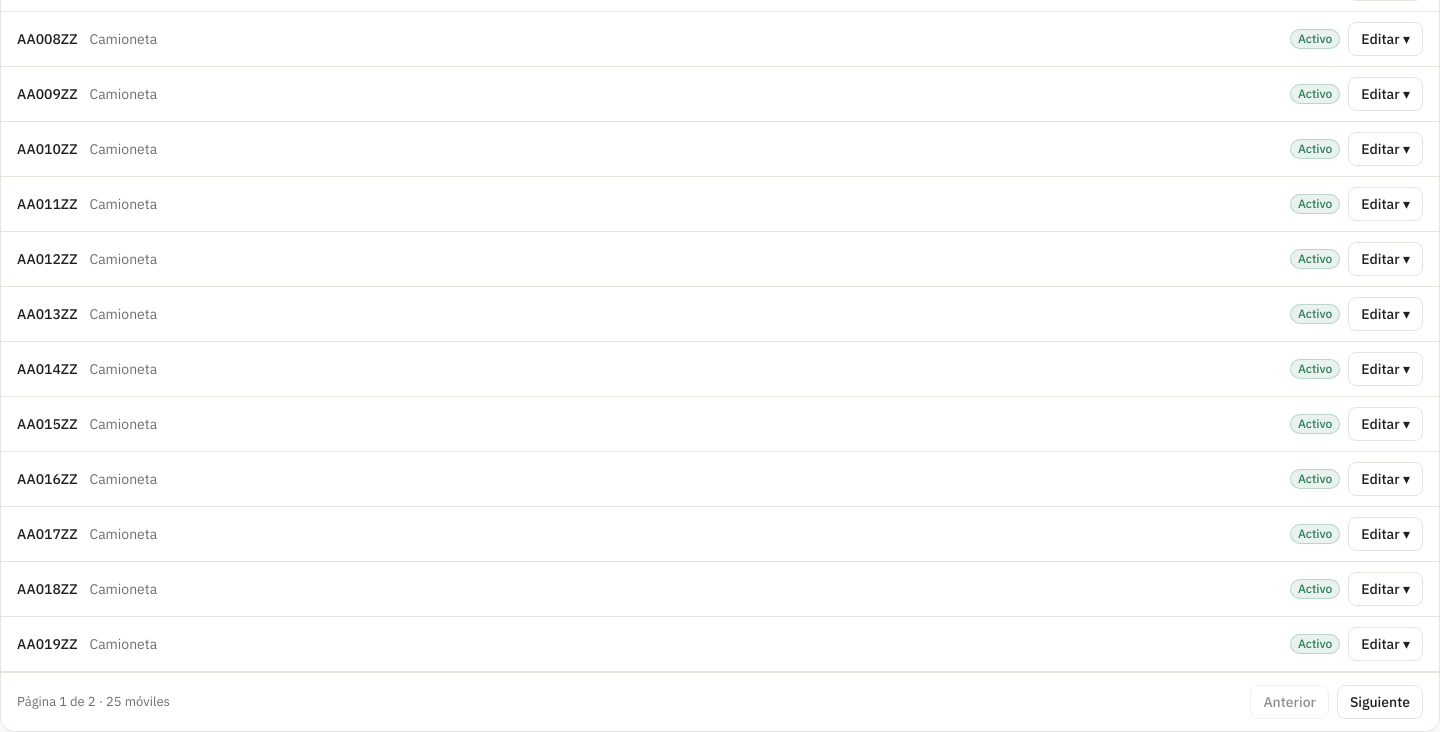
MovilesAdminPage › paginación de a 20 › "Siguiente" trae el resto
This screenshot has width=1440, height=732.
(page scrolled)
Click the button "Siguiente" at (1380,702), box [1337,685,1423,719]
(page scrolled)
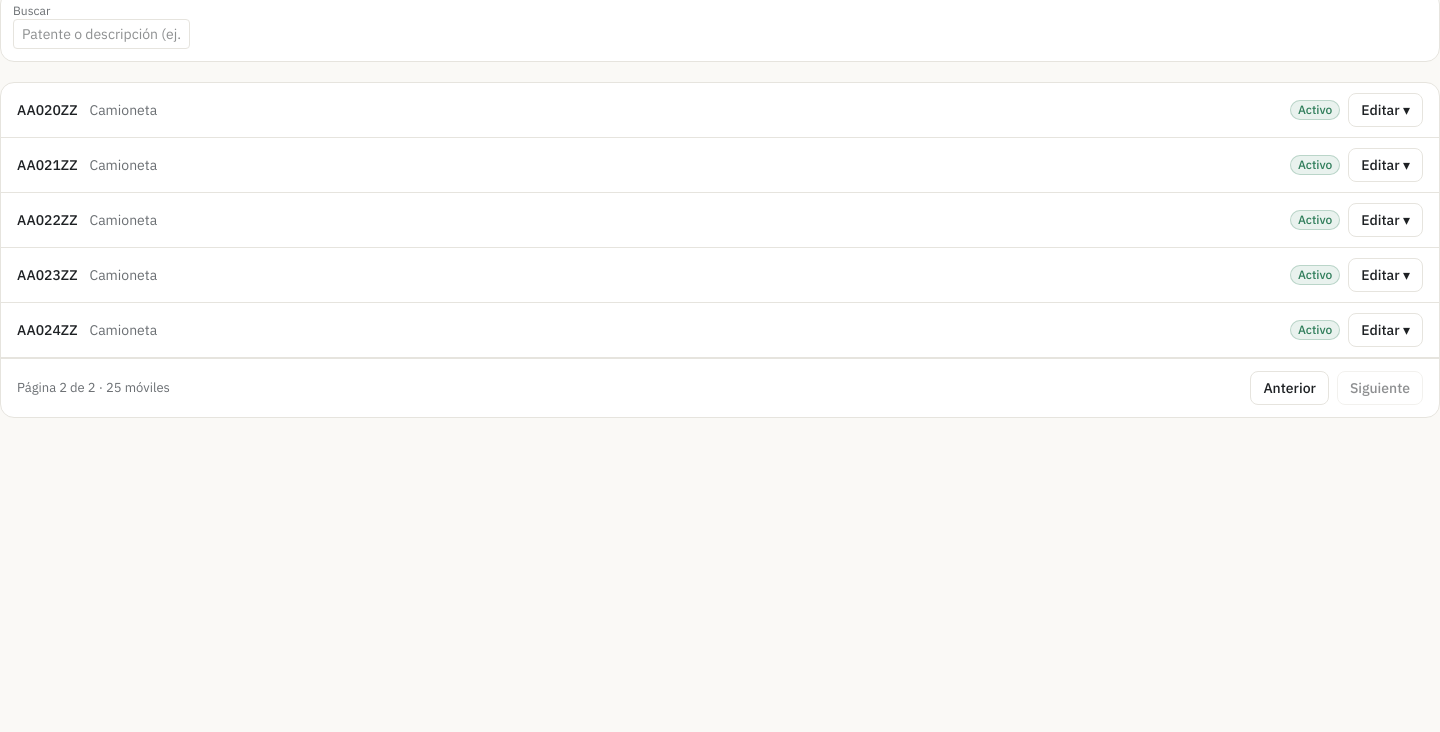
Now the text "AA020ZZ" is shown, box [17,100,77,120]
Now the text "AA024ZZ" is shown, box [17,320,77,340]
Now the text "AA019ZZ" is gone
